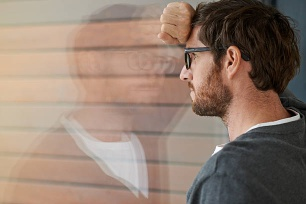male: (168, 17, 248, 122)
